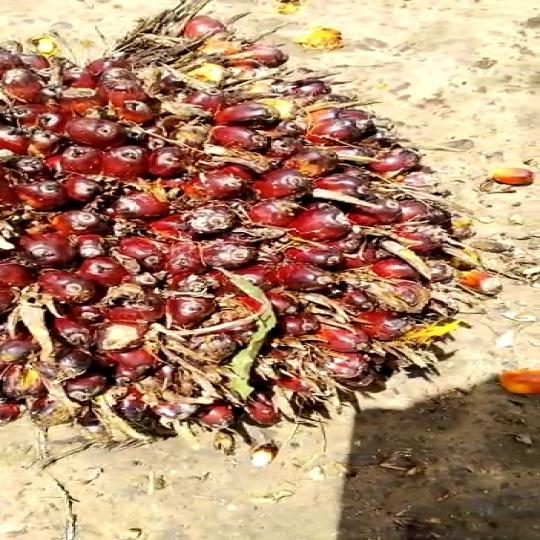masak: (0, 6, 485, 438)
